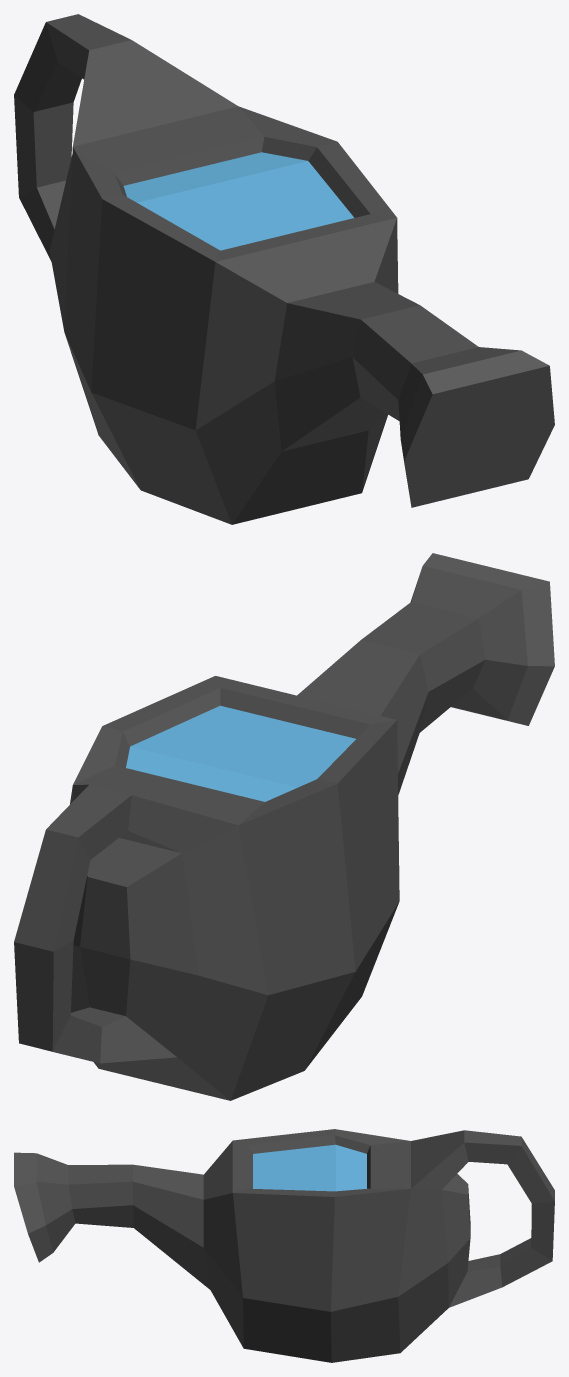
The model's file is Konewka 1.fbx.
3 renders of one model, top to bottom at view 1: azimuth 30°, elevation 25°; view 2: azimuth 150°, elevation 25°; view 3: azimuth 270°, elevation 25°, orthographic. The views are drawn at different scales.
Visible parts, largest first — view 1: konewka; view 2: konewka; view 3: konewka.
Boxes of the visible parts, x1,y1,x2,y2 form: konewka: [14, 14, 554, 524]; konewka: [14, 553, 554, 1100]; konewka: [14, 1129, 554, 1362].
Size of the model in its own units: 177 by 220 by 532.
